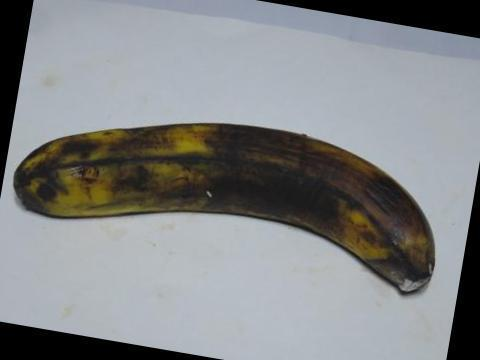overripe: (0, 100, 443, 299)
